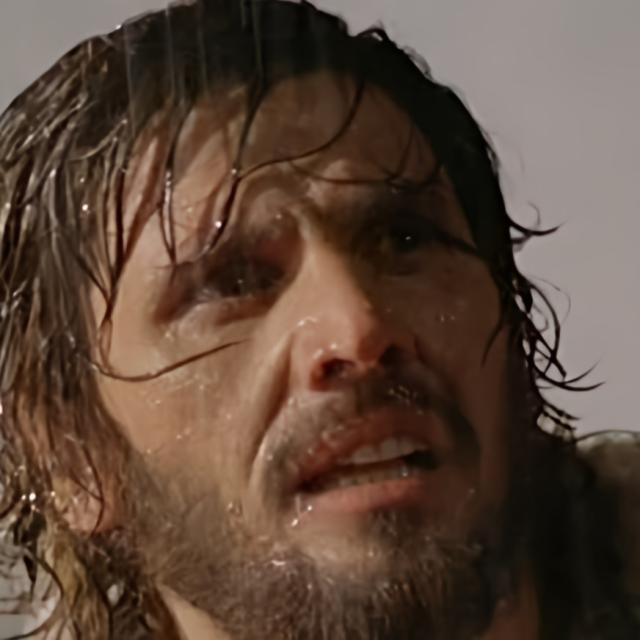sad: (76, 60, 515, 632)
